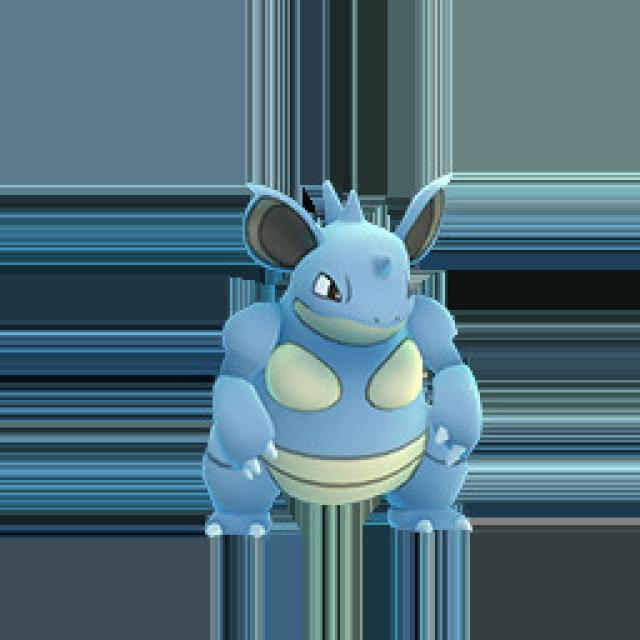Nidoqueen: (180, 160, 492, 565)
